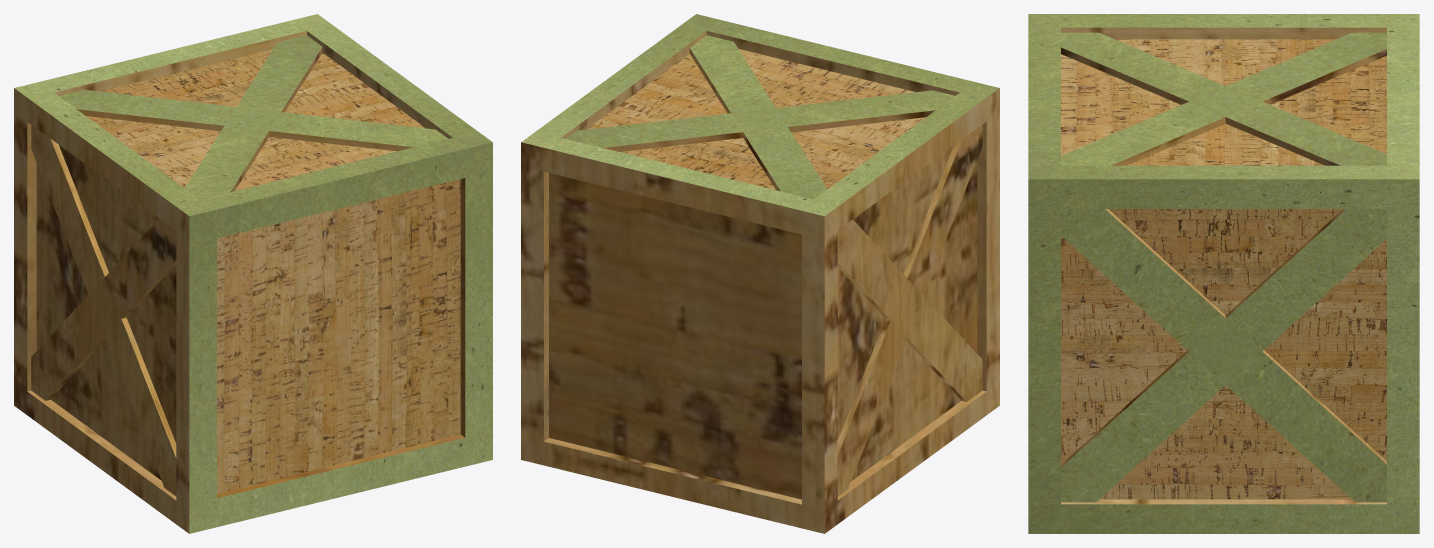
File: YASHILV1.fbx
3 views of the same model, side by side, from view 1: azimuth 30°, elevation 25°; view 2: azimuth 150°, elevation 25°; view 3: azimuth 270°, elevation 25° (orthographic). The views are drawn at different scales.
Parts seen in each view (by area): view 1: YASHIK(V1); view 2: YASHIK(V1); view 3: YASHIK(V1).
Boxes of the visible parts, x1=… form: YASHIK(V1): x1=14, y1=14, x2=492, y2=533; YASHIK(V1): x1=521, y1=14, x2=999, y2=533; YASHIK(V1): x1=1028, y1=14, x2=1419, y2=533.
Size of the model in its own units: 387 by 387 by 387.
Materials: 2 (2 with a texture image).
